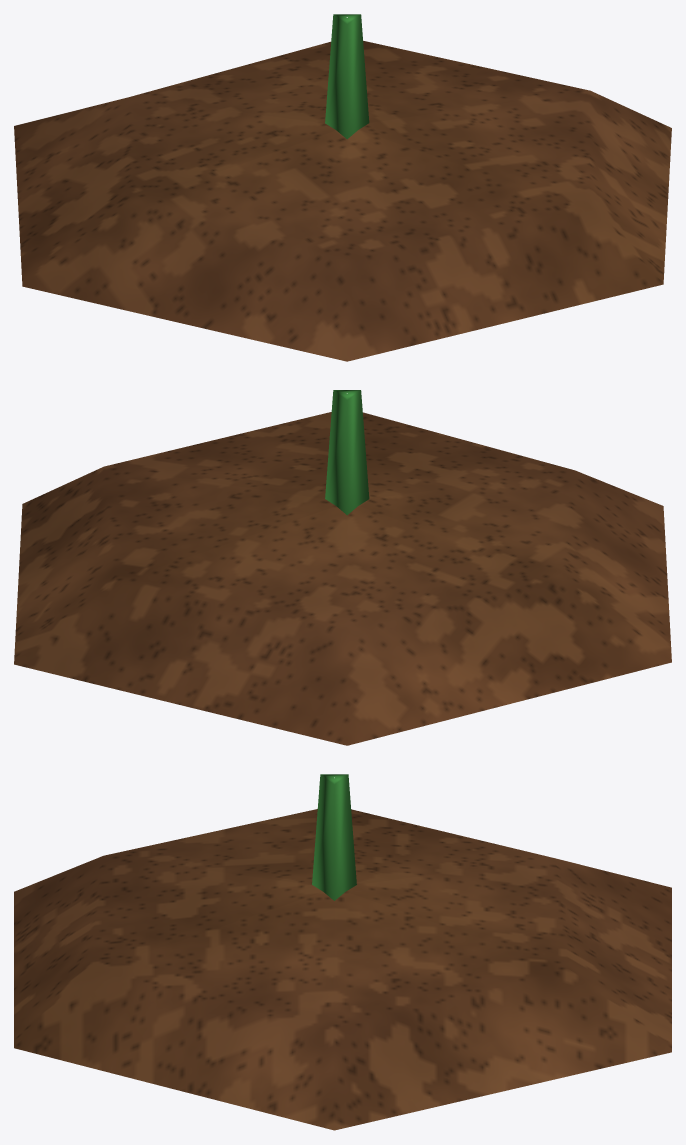
File: plant-strawberry-1-far.glb
3 views of the same model, one above another, from view 1: azimuth 30°, elevation 25°; view 2: azimuth 150°, elevation 25°; view 3: azimuth 270°, elevation 25° (orthographic).
Parts seen in each view (by area): view 1: plant-strawberry-1-far; view 2: plant-strawberry-1-far; view 3: plant-strawberry-1-far.
Boxes of the visible parts, left/top/right/bottom form: plant-strawberry-1-far: left=14, top=14, right=671, bottom=361; plant-strawberry-1-far: left=14, top=390, right=671, bottom=745; plant-strawberry-1-far: left=14, top=774, right=671, bottom=1130.
Size of the model in its own units: 0.84 by 0.2344 by 0.7275.
Materials: 3 (1 with a texture image).
